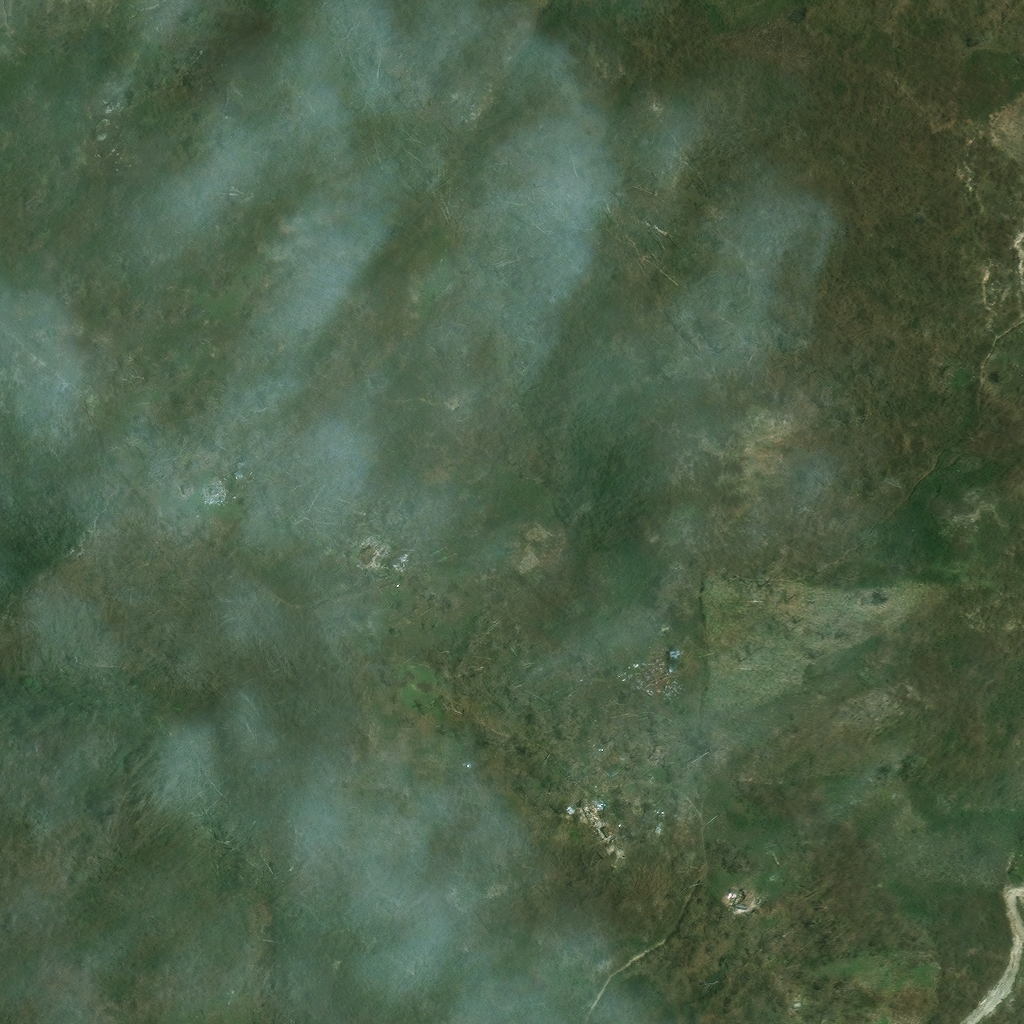destroyed: (362, 543, 383, 562), (570, 810, 584, 831), (196, 487, 220, 499), (269, 127, 283, 142), (638, 816, 651, 825)
major_damage: (725, 893, 743, 914), (172, 490, 182, 499)
unclassified: (577, 2, 590, 14)
